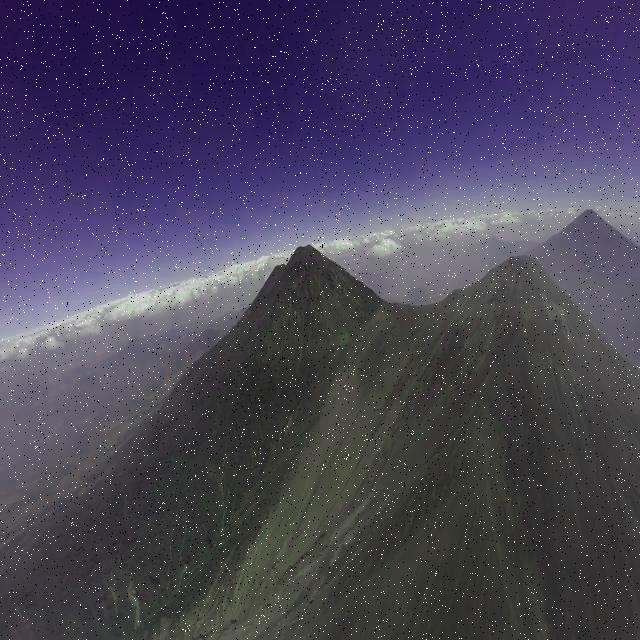Summit: (439, 248, 608, 344)
